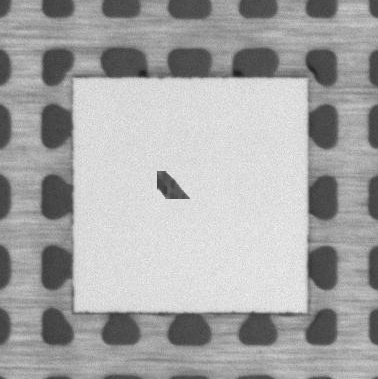DIE_INK: (157, 170, 188, 199)
